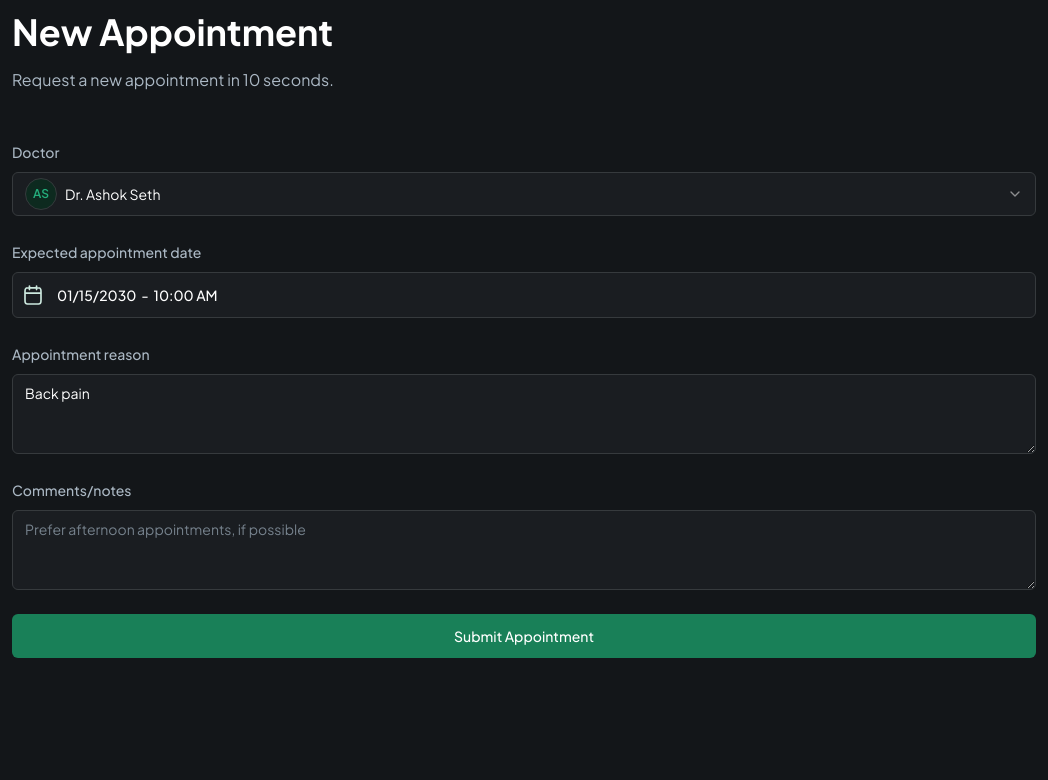
Test: AppointmentForm › VAL-16 shows a server error in the alert area and re-enables the button
Click the button "Submit Appointment" at x=524, y=636, box left=12, top=614, right=1036, bottom=658
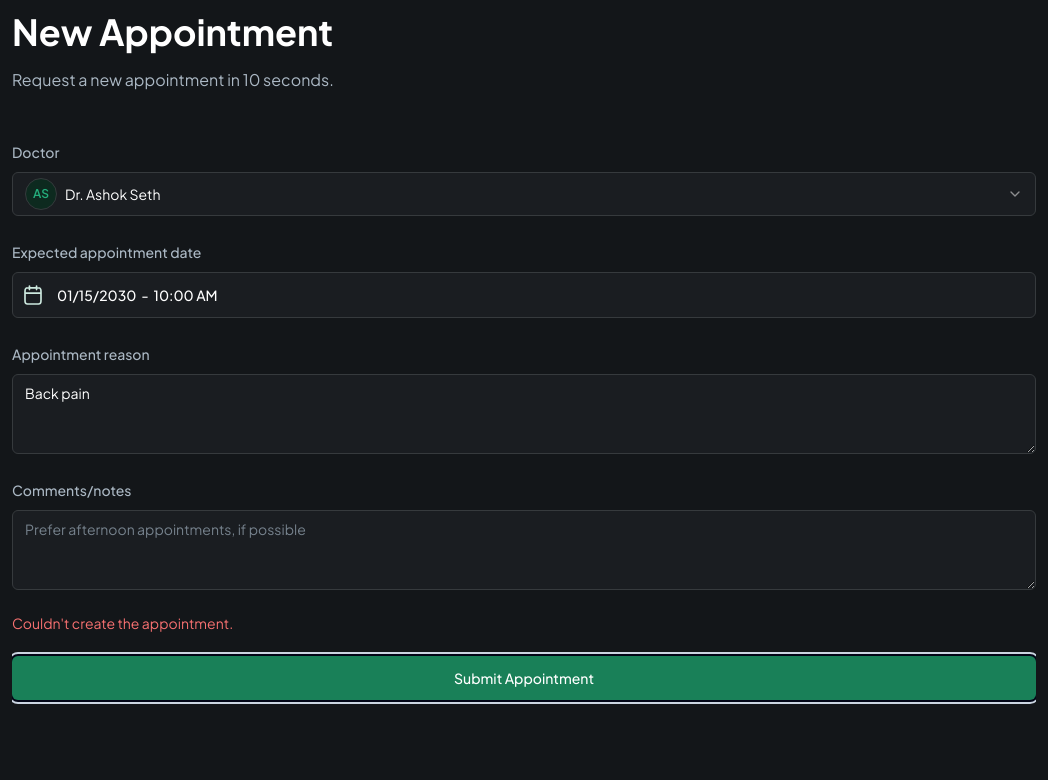
Expected: the button "Submit Appointment" is enabled, left=12, top=656, right=1036, bottom=700
Expected: the message reads "Couldn't create the appointment.", left=12, top=614, right=233, bottom=632
